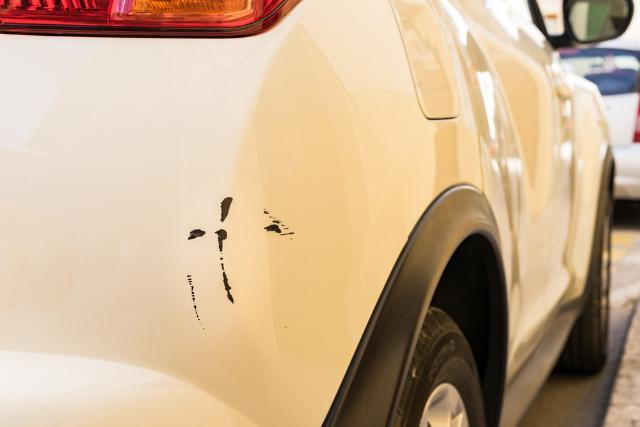scratch: (183, 190, 245, 334), (260, 207, 301, 243)
